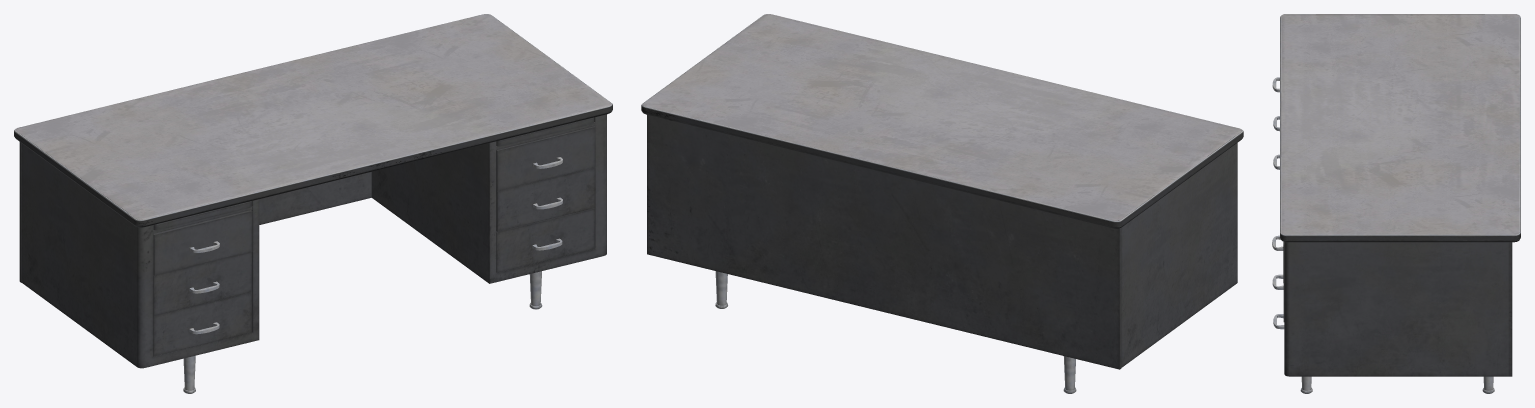
File: metal_office_desk.glb
3 views of the same model, side by side, from view 1: azimuth 30°, elevation 25°; view 2: azimuth 150°, elevation 25°; view 3: azimuth 270°, elevation 25° (orthographic). The views are drawn at different scales.
Visible parts, largest first — view 1: metal_office_desk, metal_office_desk_drawer_04, metal_office_desk_drawer_01, metal_office_desk_drawer_02, metal_office_desk_drawer_03, metal_office_desk_drawer_06, metal_office_desk_drawer_05, metal_office_desk_tray_01, metal_office_desk_tray_02; view 2: metal_office_desk; view 3: metal_office_desk.
Part boxes in pixels (x1,y1,x2,y2): metal_office_desk: [14, 14, 612, 393]; metal_office_desk_drawer_04: [153, 210, 252, 275]; metal_office_desk_drawer_01: [496, 126, 595, 191]; metal_office_desk_drawer_02: [496, 167, 595, 231]; metal_office_desk_drawer_03: [496, 208, 594, 272]; metal_office_desk_drawer_06: [153, 292, 251, 356]; metal_office_desk_drawer_05: [153, 252, 251, 315]; metal_office_desk_tray_01: [153, 201, 251, 230]; metal_office_desk_tray_02: [496, 117, 594, 146]; metal_office_desk: [641, 14, 1243, 393]; metal_office_desk: [1280, 14, 1520, 393].
Size of the model in its own units: 2 by 0.7875 by 0.9472.
Materials: 1 (1 with a texture image).
